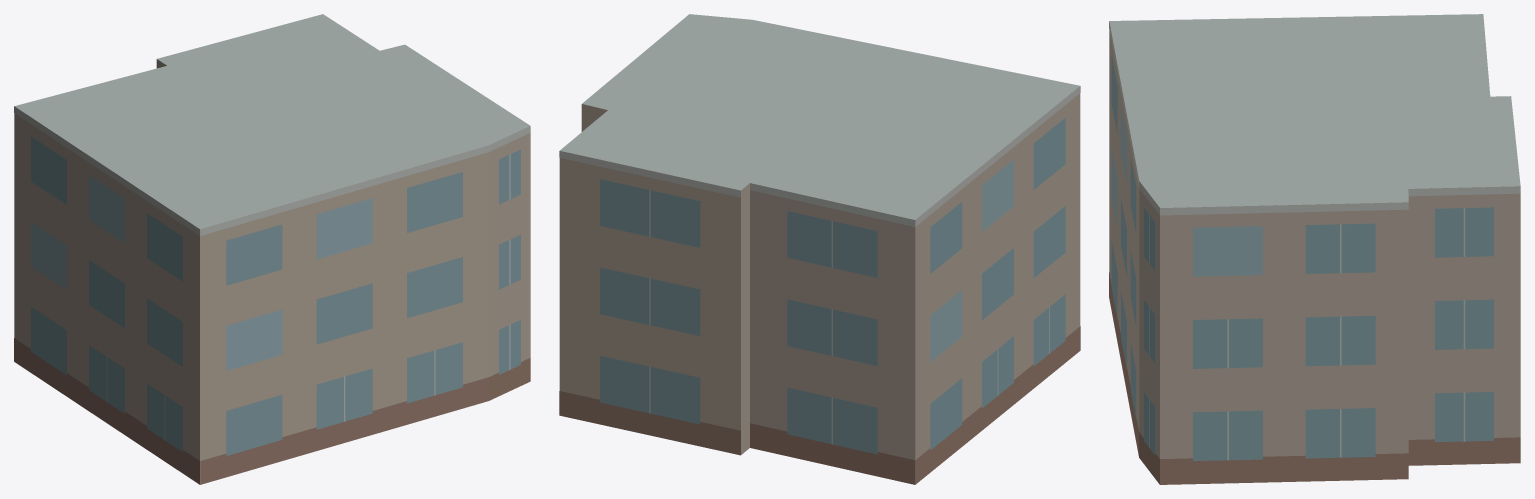
The model's file is survey-upis-32717498.glb.
The picture shows the model from 3 angles, left to right: view 1: azimuth 30°, elevation 25°; view 2: azimuth 150°, elevation 25°; view 3: azimuth 270°, elevation 25°; orthographic projection. The views are drawn at different scales.
Parts seen in each view (by area): view 1: survey-upis-32717498.tmp; view 2: survey-upis-32717498.tmp; view 3: survey-upis-32717498.tmp.
Boxes of the visible parts, x1,y1,x2,y2 form: survey-upis-32717498.tmp: (14,14,530,484); survey-upis-32717498.tmp: (559,14,1080,484); survey-upis-32717498.tmp: (1109,14,1520,484).
Size of the model in its own units: 13.77 by 9.15 by 12.34.
